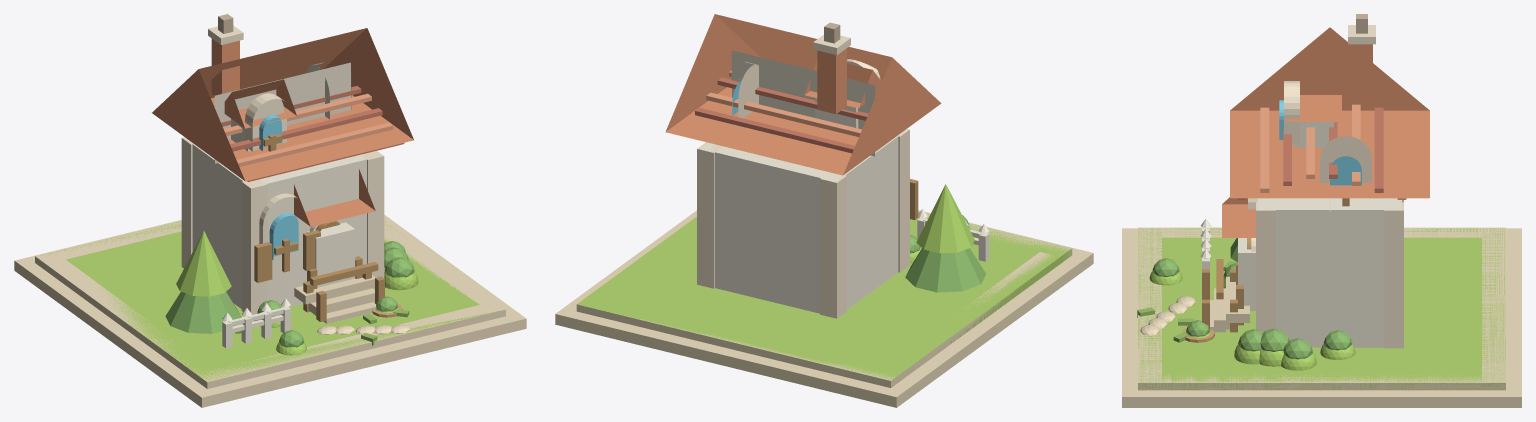
Rendered from house_small.glb.
3 views of the same model, side by side, from view 1: azimuth 30°, elevation 25°; view 2: azimuth 150°, elevation 25°; view 3: azimuth 270°, elevation 25° (orthographic). The views are drawn at different scales.
Visible parts, largest first — view 1: inner_grass, main_roof, main_body, base_tile, border_0, border_2, gable_fill, corner_2, tree_left_foliage_lower, tree_left_foliage_upper, corner_3, porch_body (+19 smaller); view 2: inner_grass, main_body, main_roof, base_tile, corner_0, gable_fill, border_1, tree_left_foliage_lower, corner_1, tree_left_foliage_upper, chimney, corner_2 (+9 smaller); view 3: inner_grass, main_roof, main_body, base_tile, border_3, border_1, border_0, corner_1, corner_3, dormer_roof, upper_right_window_frame, border_2 (+23 smaller).
Part boxes in pixels (x1=…): inner_grass: x1=35, y1=221, x2=499, y2=387; main_roof: x1=152, y1=28, x2=413, y2=181; main_body: x1=192, y1=144, x2=366, y2=308; base_tile: x1=14, y1=215, x2=526, y2=407; border_0: x1=196, y1=301, x2=505, y2=388; border_2: x1=46, y1=259, x2=214, y2=380; gable_fill: x1=214, y1=62, x2=351, y2=163; corner_2: x1=241, y1=179, x2=267, y2=314; tree_left_foliage_lower: x1=165, y1=291, x2=241, y2=333; tree_left_foliage_upper: x1=176, y1=231, x2=231, y2=296; corner_3: x1=361, y1=150, x2=384, y2=277; porch_body: x1=307, y1=222, x2=355, y2=287; inner_grass: x1=577, y1=211, x2=1072, y2=387; main_body: x1=700, y1=129, x2=906, y2=313; main_roof: x1=665, y1=14, x2=941, y2=175; base_tile: x1=555, y1=210, x2=1093, y2=407; corner_0: x1=820, y1=174, x2=846, y2=318; gable_fill: x1=731, y1=50, x2=875, y2=156; border_1: x1=576, y1=304, x2=902, y2=387; tree_left_foliage_lower: x1=905, y1=248, x2=985, y2=292; corner_1: x1=697, y1=142, x2=722, y2=288; tree_left_foliage_upper: x1=916, y1=184, x2=974, y2=253; chimney: x1=817, y1=48, x2=846, y2=114; corner_2: x1=898, y1=129, x2=909, y2=272; inner_grass: x1=1138, y1=227, x2=1505, y2=390; main_roof: x1=1230, y1=27, x2=1429, y2=198; main_body: x1=1258, y1=198, x2=1401, y2=347; base_tile: x1=1122, y1=228, x2=1521, y2=407; border_3: x1=1162, y1=373, x2=1481, y2=390; border_1: x1=1482, y1=227, x2=1505, y2=390; border_0: x1=1138, y1=227, x2=1161, y2=390; corner_1: x1=1384, y1=202, x2=1403, y2=348; corner_3: x1=1256, y1=202, x2=1275, y2=332; dormer_roof: x1=1286, y1=66, x2=1341, y2=121; upper_right_window_frame: x1=1320, y1=136, x2=1371, y2=182; border_2: x1=1162, y1=227, x2=1481, y2=237.
Bounding box in the file's own units: 1 × 0.81 × 1.
